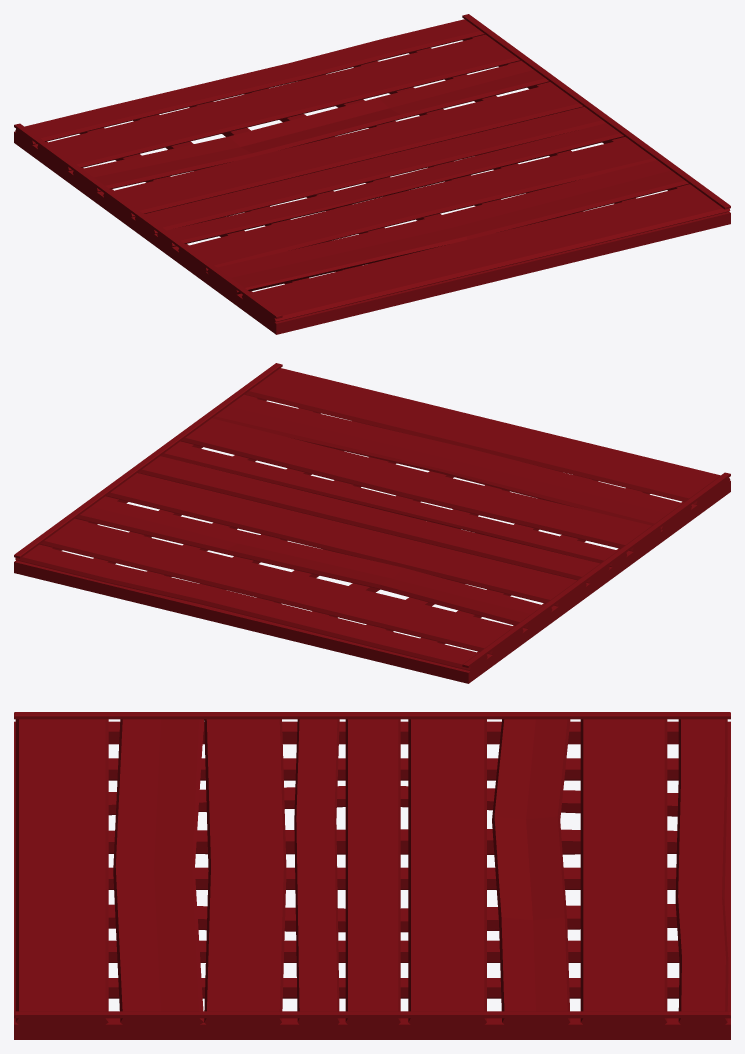
File: SM_MH_01_Wood_Floor_02.fbx
3 renders of one model, top to bottom at view 1: azimuth 30°, elevation 25°; view 2: azimuth 150°, elevation 25°; view 3: azimuth 270°, elevation 25°, orthographic. The views are drawn at different scales.
Parts seen in each view (by area): view 1: SM_MH_01_Wood_Floor_02_LOD0; view 2: SM_MH_01_Wood_Floor_02_LOD0; view 3: SM_MH_01_Wood_Floor_02_LOD0.
Part boxes in pixels (bbox=[...]): SM_MH_01_Wood_Floor_02_LOD0: bbox=[14, 14, 730, 334]; SM_MH_01_Wood_Floor_02_LOD0: bbox=[14, 363, 730, 683]; SM_MH_01_Wood_Floor_02_LOD0: bbox=[14, 712, 730, 1039].
Size of what is drawn, in the model's own units: 300 by 11.8 by 300.
